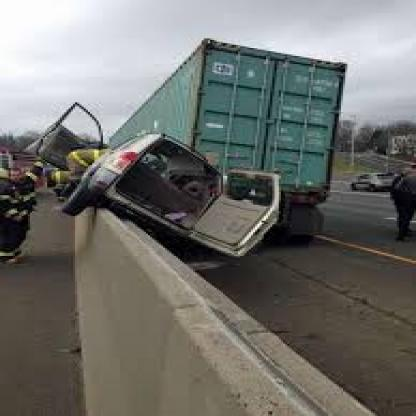accident: (25, 88, 292, 260)
